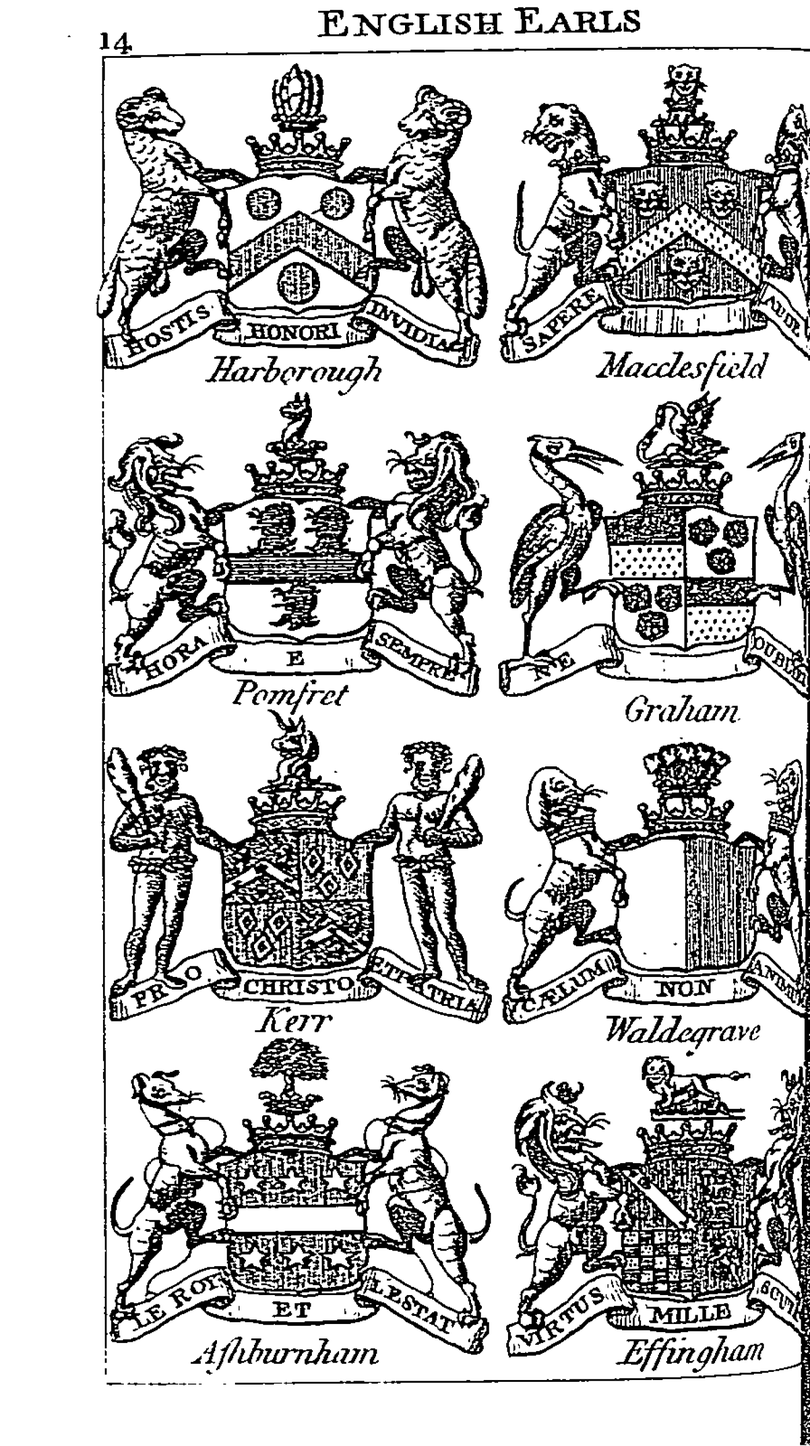coat_of_arms: (104, 58, 494, 401), (104, 1041, 499, 1378), (108, 713, 502, 1050), (97, 391, 488, 719), (494, 1048, 810, 1382), (496, 57, 810, 393), (502, 400, 810, 729), (498, 730, 809, 1052)
